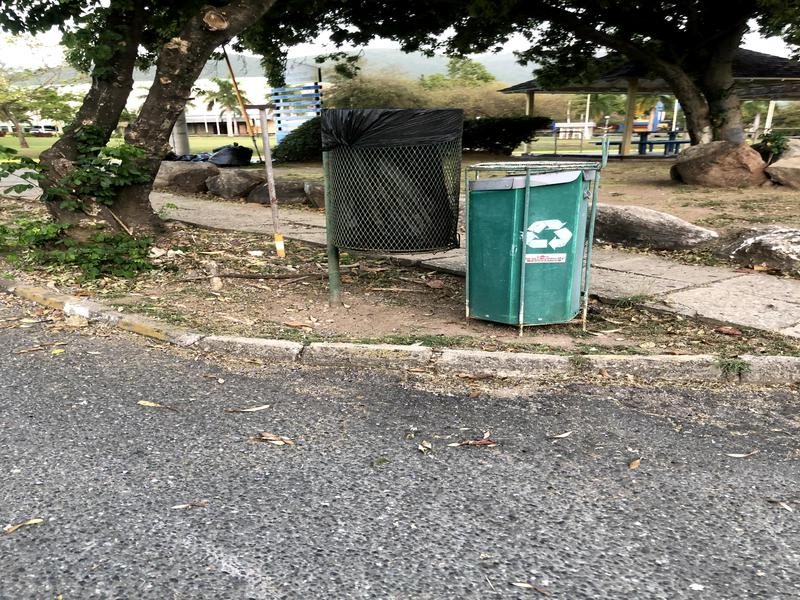18.0053245_-76.7486424_recyclebin: (464, 162, 612, 359)
